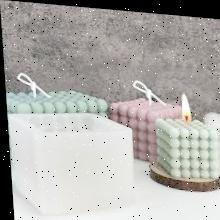cube: (152, 113, 218, 177)
